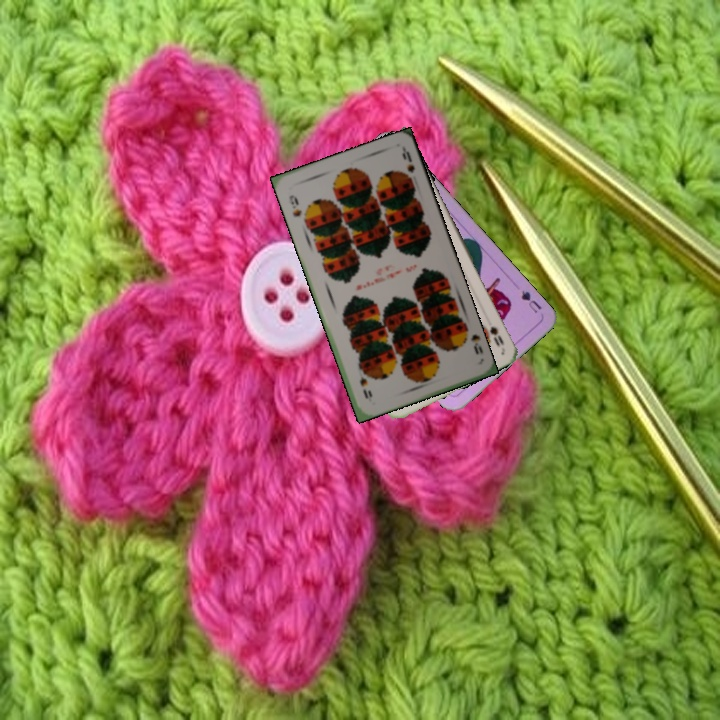GU: (517, 286, 544, 316)
S9: (466, 330, 486, 357), (285, 191, 304, 219)
SO: (486, 322, 506, 350)
